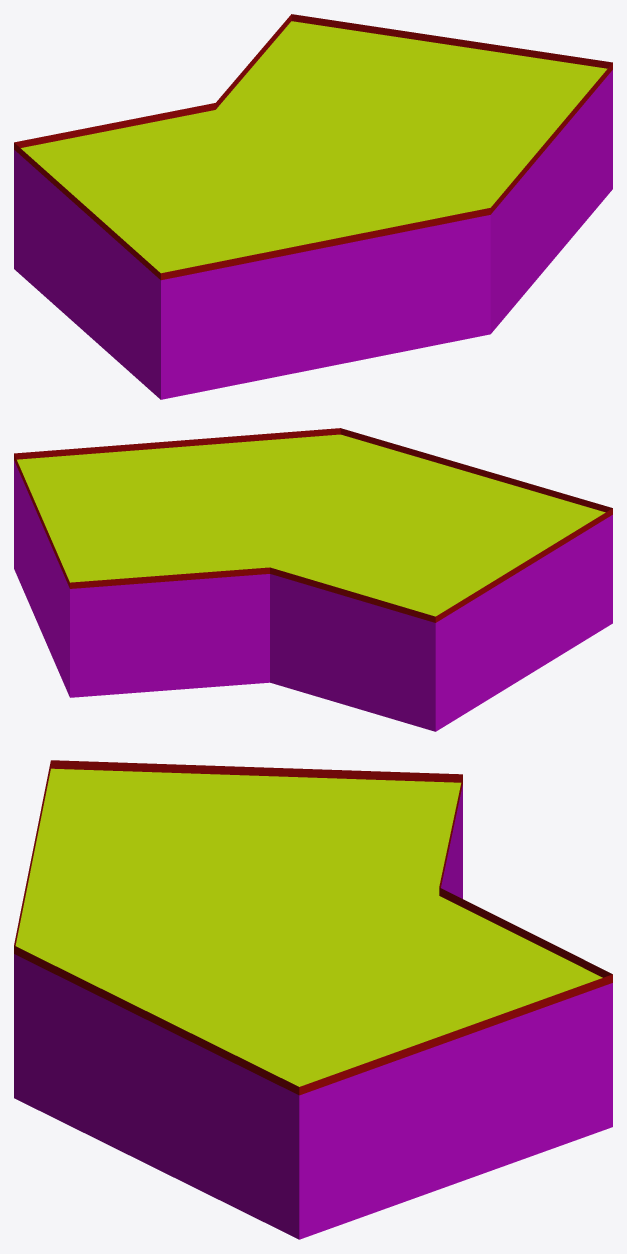
Rendered from bgj_424.glb.
The picture shows the model from 3 angles, top to bottom: view 1: azimuth 30°, elevation 25°; view 2: azimuth 150°, elevation 25°; view 3: azimuth 270°, elevation 25°; orthographic projection. The views are drawn at different scales.
Visible parts, largest first — view 1: bgj_424; view 2: bgj_424; view 3: bgj_424.
Boxes of the visible parts, x1=… form: bgj_424: x1=14, y1=14, x2=612, y2=399; bgj_424: x1=14, y1=428, x2=612, y2=731; bgj_424: x1=14, y1=760, x2=612, y2=1239.
Size of the model in its own units: 28.86 by 6.29 by 22.35.
